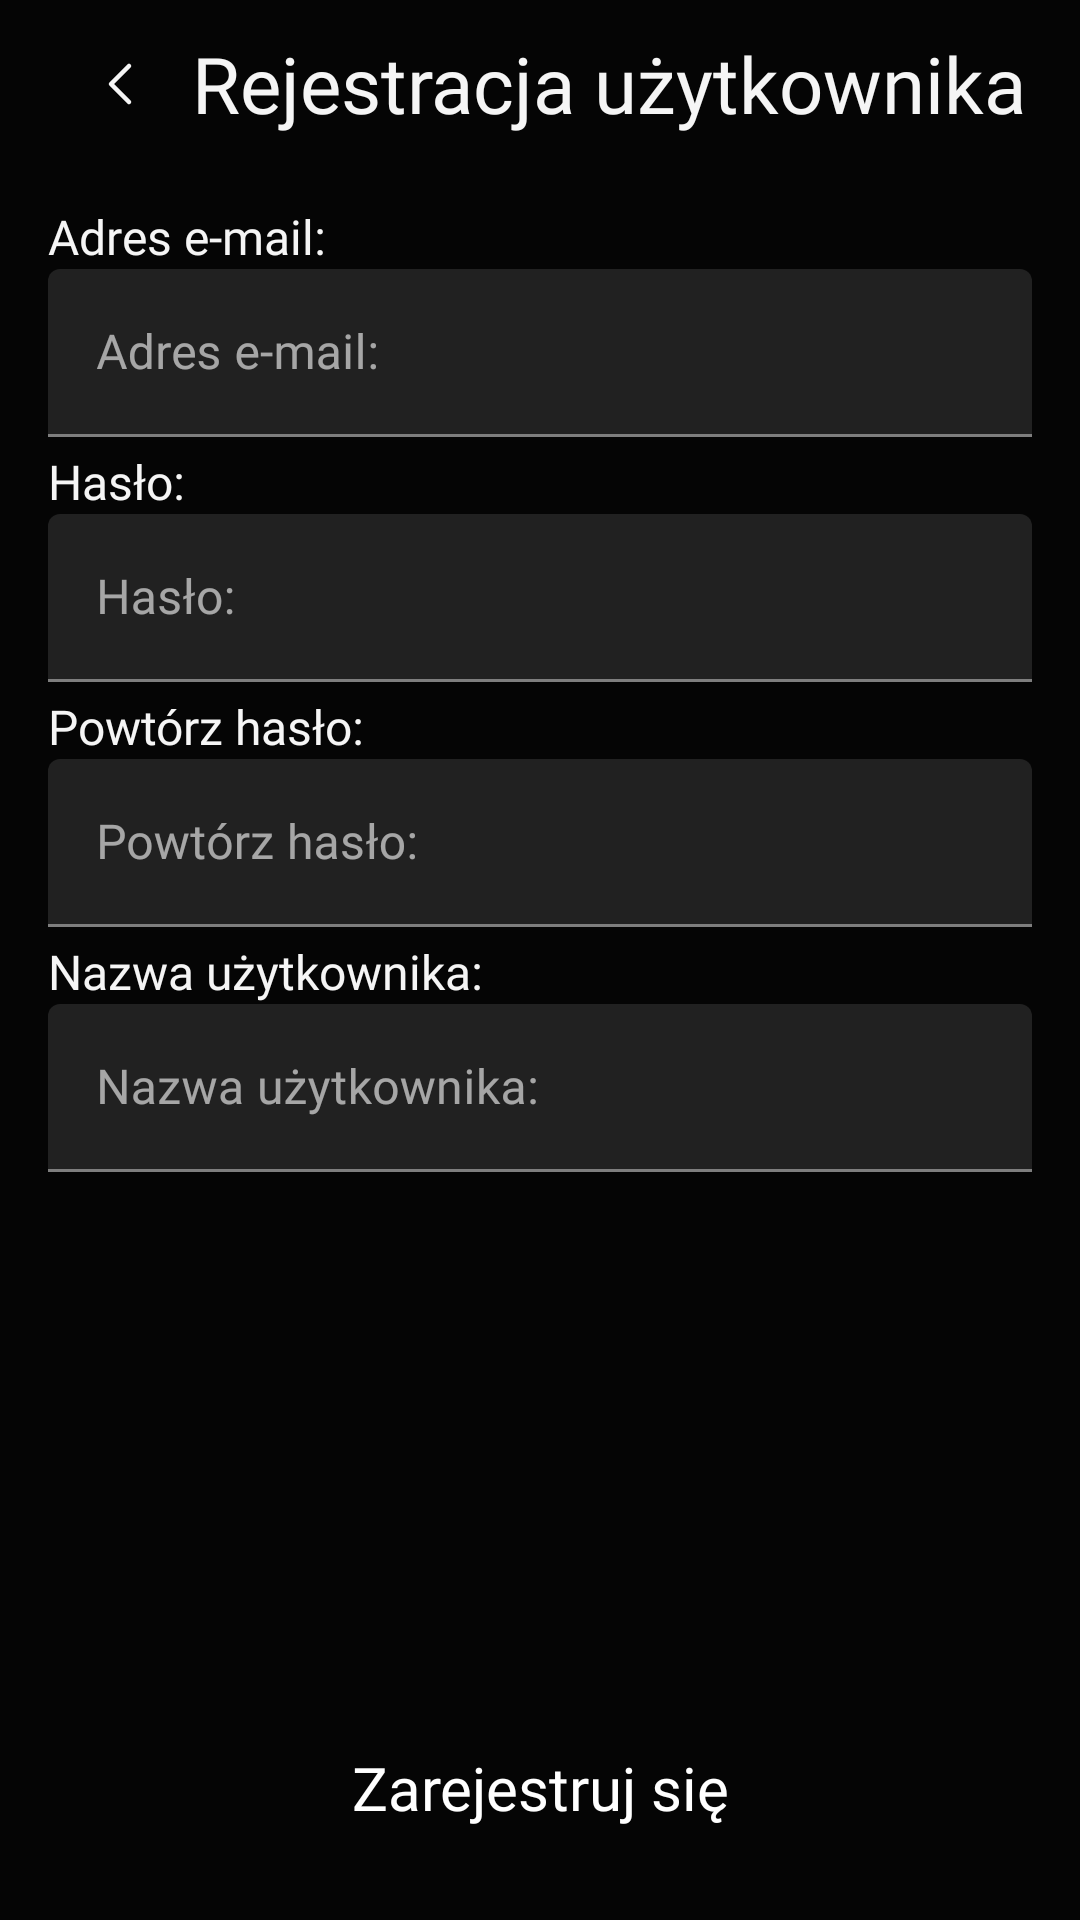

Icons on this 1080*1920 Android screen, each with its box as {"left": x1, "top": y1, "right": x2, "bottom": y2}:
Go Back: {"left": 108, "top": 63, "right": 132, "bottom": 105}
